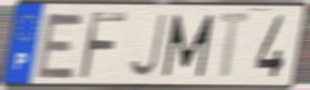4: (253, 14, 288, 80)
E: (34, 10, 87, 81)
F: (76, 10, 128, 82)
J: (127, 13, 168, 80)
M: (161, 12, 217, 80)
T: (215, 10, 255, 82)
